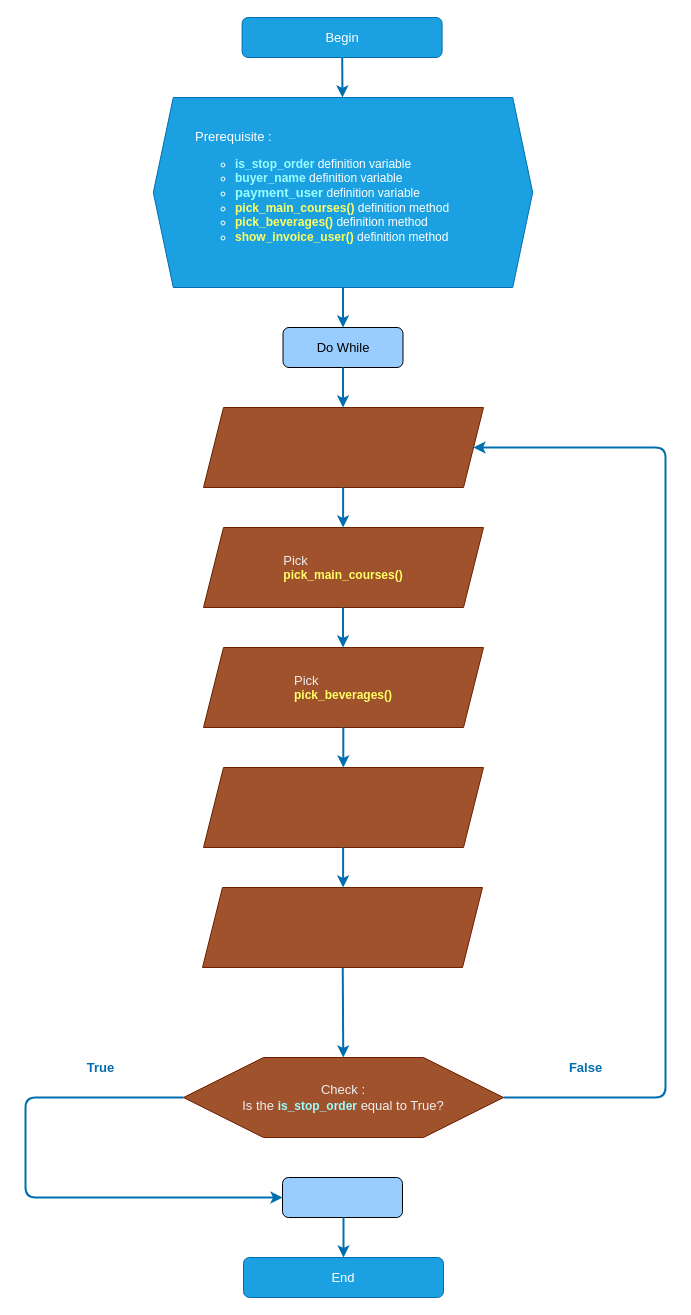
This 691x1315 diagram has some shape labels left out. Here are the shapes that lost their labels. From the top down, the centre of each, then its label:
At (x=343, y=447): "Input buyer_name".
At (x=343, y=807): "Input payment_user".
At (x=342, y=927): "Show show_invoice_user()".
At (x=342, y=1197): "End Do While".
